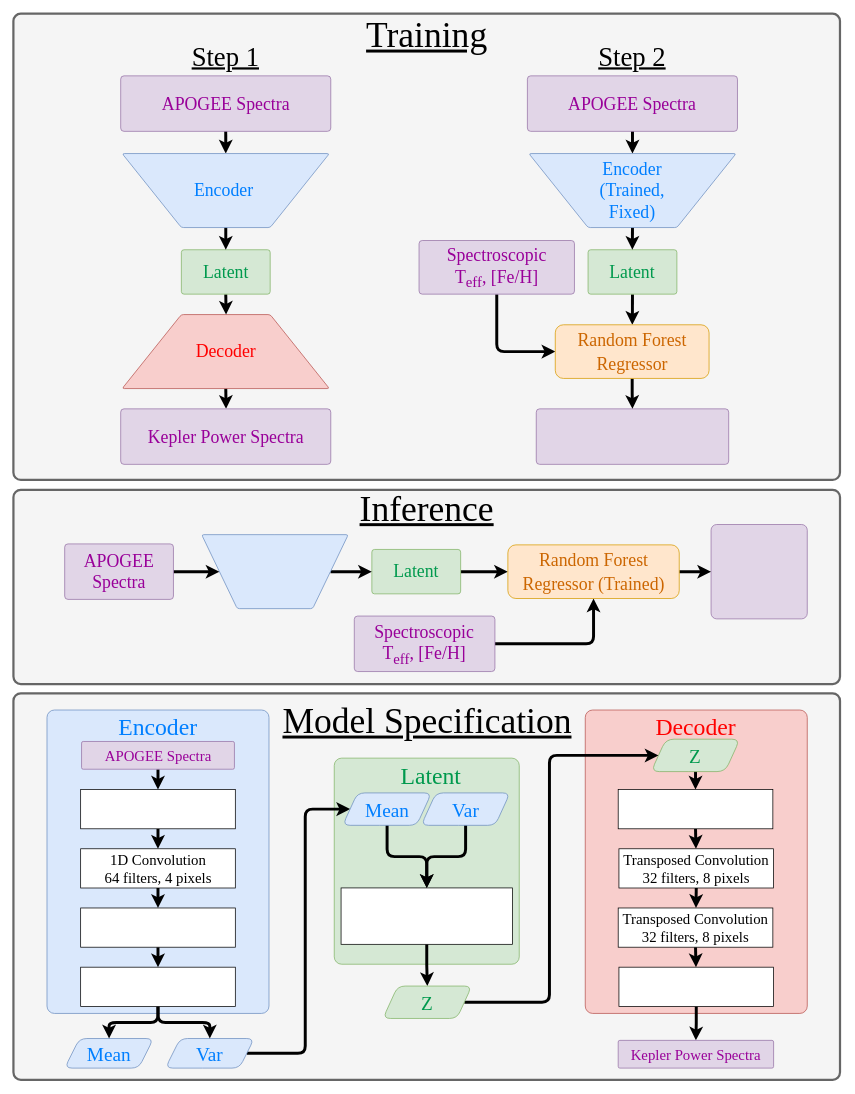
Image size: 855x1094. Some labels were removed from this diagram. Here are the shapes that lost their labels. From the top down, the centre of each, then its label:
the point at 632,436: Age (Miglio et al. 2021)
the point at 274,571: Encoder (Trained)
the point at 758,571: Latent Space Age
the point at 157,809: 1D Convolution 32 filters, 4 pixels
the point at 695,809: Dense 32 units
the point at 157,927: Max Pooling 2 pixels
the point at 426,915: Normal Distribution Sampler
the point at 157,986: Dense 16 units
the point at 696,986: Transposed Convolution 1 filter, 8 pixels
